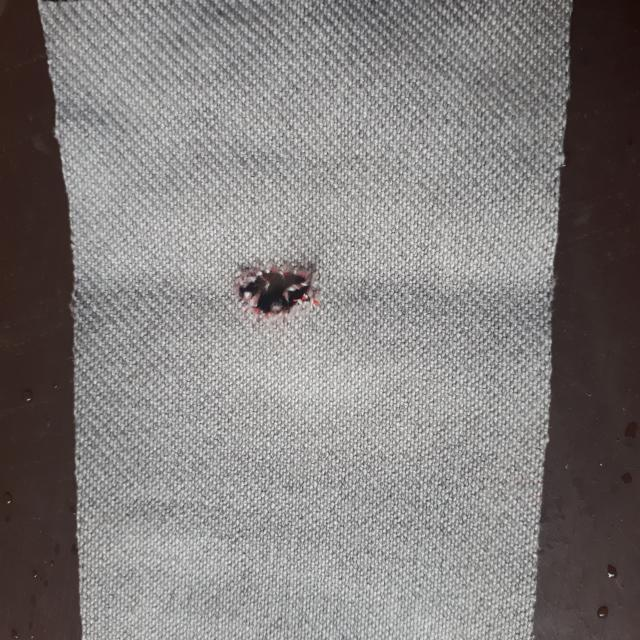other: (200, 218, 356, 366)
